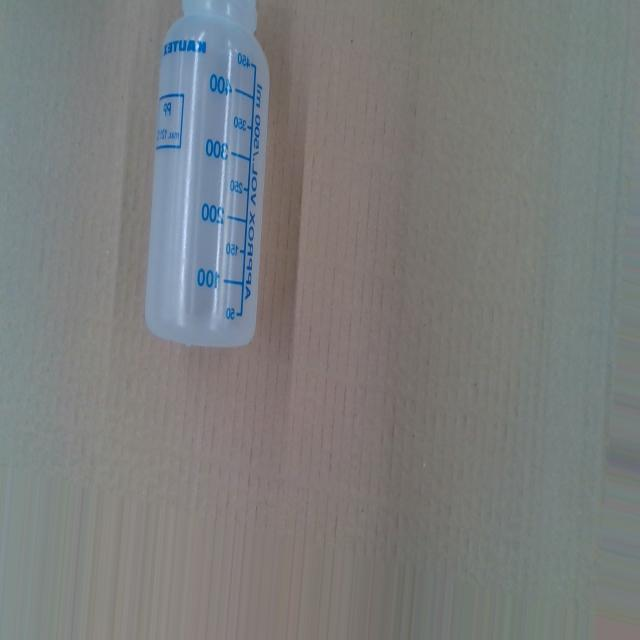bottle: (142, 0, 269, 346)
